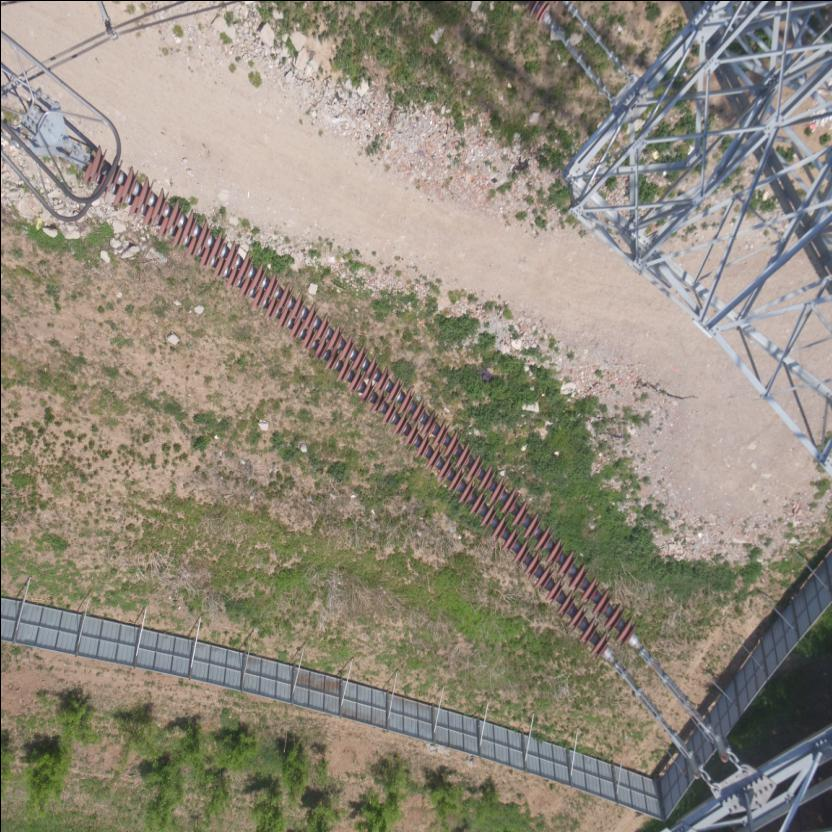insulator: (67, 137, 650, 680)
